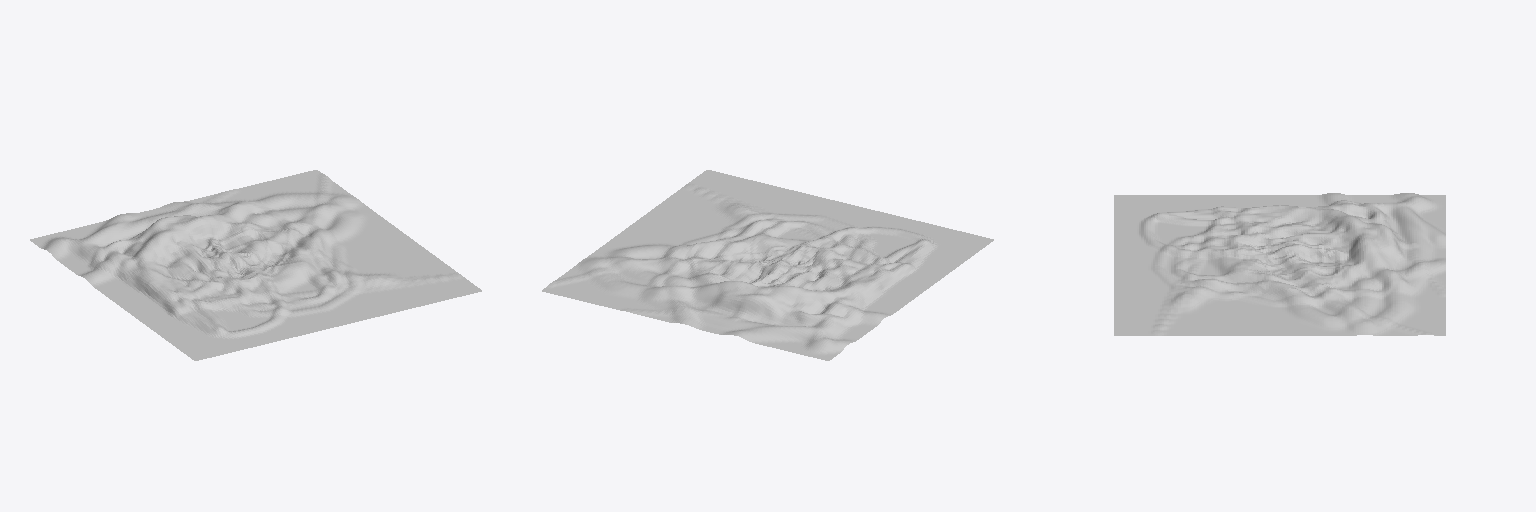
File: world2.obj
3 views of the same model, side by side, from view 1: azimuth 30°, elevation 25°; view 2: azimuth 150°, elevation 25°; view 3: azimuth 270°, elevation 25° (orthographic).
Visible parts, largest first — view 1: Mesh_Grid.001; view 2: Mesh_Grid.001; view 3: Mesh_Grid.001.
Boxes of the visible parts, x1,y1,x2,y2 form: Mesh_Grid.001: [30, 170, 481, 360]; Mesh_Grid.001: [542, 170, 993, 360]; Mesh_Grid.001: [1114, 193, 1445, 335].
Size of the model in its own units: 1219 by 76.5 by 1219.